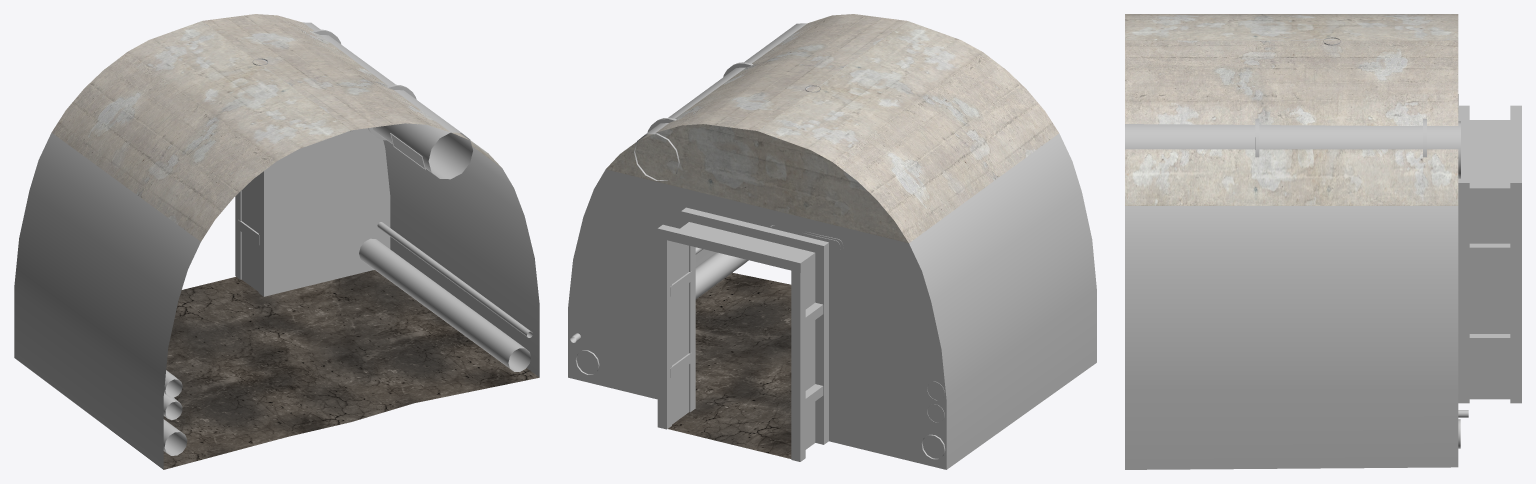
File: Corridor_wall_start.FBX
3 renders of one model, left to right at view 1: azimuth 30°, elevation 25°; view 2: azimuth 150°, elevation 25°; view 3: azimuth 270°, elevation 25°, orthographic. The views are drawn at different scales.
Visible parts, largest first — view 1: Corridor_wall_start, Corridor_floor_start, Tube002, Tube_big_vent001, Object005, Tube_paint001, Tube_warm002, Tube005; view 2: Corridor_wall_start, Corridor_floor_start, Object005, Tube_big_vent001, Tube002; view 3: Corridor_wall_start, Tube_big_vent001, Object005.
Part boxes in pixels (bbox=[...]): Corridor_wall_start: bbox=[14, 14, 539, 469]; Corridor_floor_start: bbox=[163, 270, 539, 469]; Tube002: bbox=[359, 238, 531, 371]; Tube_big_vent001: bbox=[302, 22, 472, 179]; Object005: bbox=[235, 164, 272, 296]; Tube_paint001: bbox=[377, 222, 532, 337]; Tube_warm002: bbox=[163, 370, 182, 420]; Tube005: bbox=[163, 419, 187, 455]; Corridor_wall_start: bbox=[568, 14, 1096, 469]; Corridor_floor_start: bbox=[668, 272, 791, 458]; Object005: bbox=[657, 207, 828, 461]; Tube_big_vent001: bbox=[634, 23, 807, 180]; Tube002: bbox=[575, 252, 748, 374]; Corridor_wall_start: bbox=[1125, 14, 1510, 469]; Tube_big_vent001: bbox=[1125, 118, 1460, 178]; Object005: bbox=[1458, 105, 1521, 403].
Size of the model in its own units: 500 by 374 by 410.
